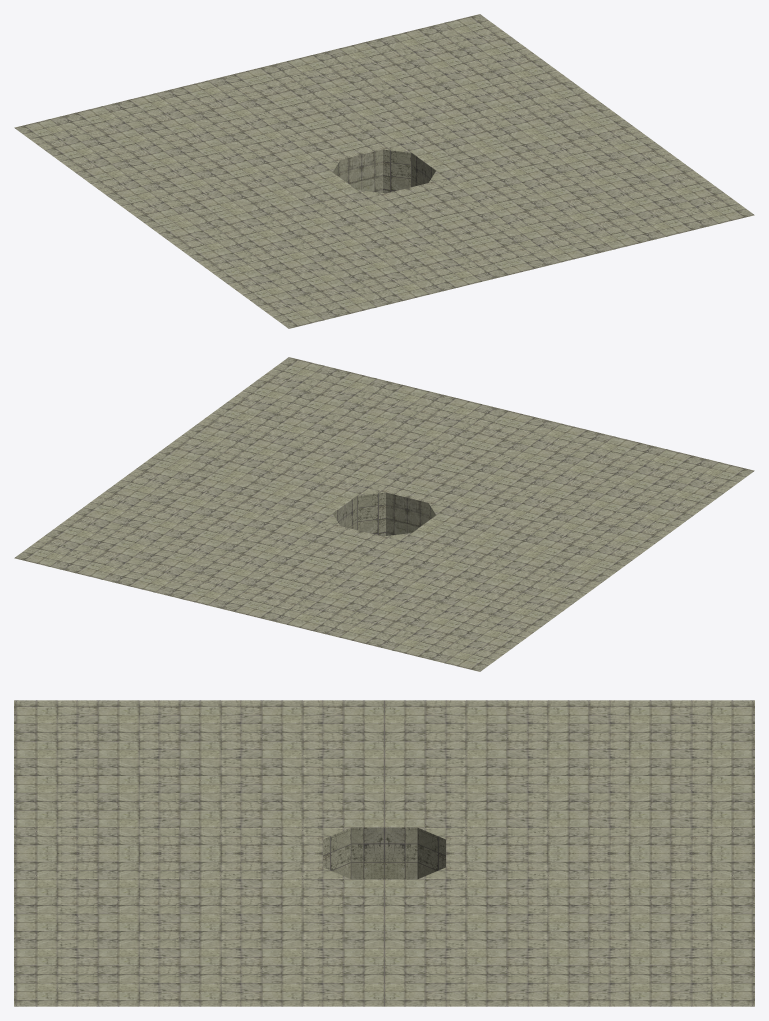
The model's file is SM_ImpassNew_Floor00.fbx.
The picture shows the model from 3 angles, top to bottom: view 1: azimuth 30°, elevation 25°; view 2: azimuth 150°, elevation 25°; view 3: azimuth 270°, elevation 25°; orthographic projection. The views are drawn at different scales.
Visible parts, largest first — view 1: SM_ImpassNew_Floor00; view 2: SM_ImpassNew_Floor00; view 3: SM_ImpassNew_Floor00.
Boxes of the visible parts, left/top/right/bottom form: SM_ImpassNew_Floor00: left=14, top=14, right=754, bottom=328; SM_ImpassNew_Floor00: left=14, top=357, right=754, bottom=671; SM_ImpassNew_Floor00: left=14, top=700, right=754, bottom=1006.
Bounding box in the file's own units: 4706 × 443 × 4807.
